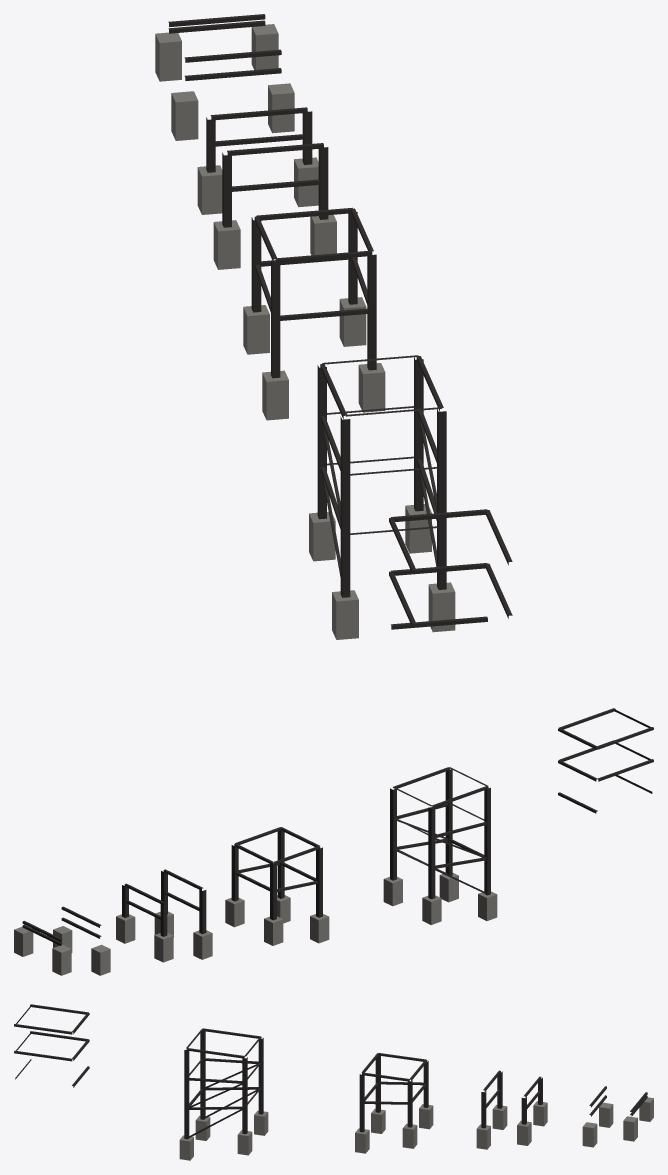
The model's file is br_r10_high_level_2_lod1.gltf.
3 renders of one model, top to bottom at view 1: azimuth 30°, elevation 25°; view 2: azimuth 150°, elevation 25°; view 3: azimuth 270°, elevation 25°, orthographic. The views are drawn at different scales.
Parts seen in each view (by area): view 1: br_r10_high_level_2_lod1; view 2: br_r10_high_level_2_lod1; view 3: br_r10_high_level_2_lod1.
Part boxes in pixels (<box>): br_r10_high_level_2_lod1: <box>155,14,512,639</box>; br_r10_high_level_2_lod1: <box>14,708,653,975</box>; br_r10_high_level_2_lod1: <box>14,1004,653,1160</box>.
Size of the model in its own units: 65.7 by 29.93 by 157.
